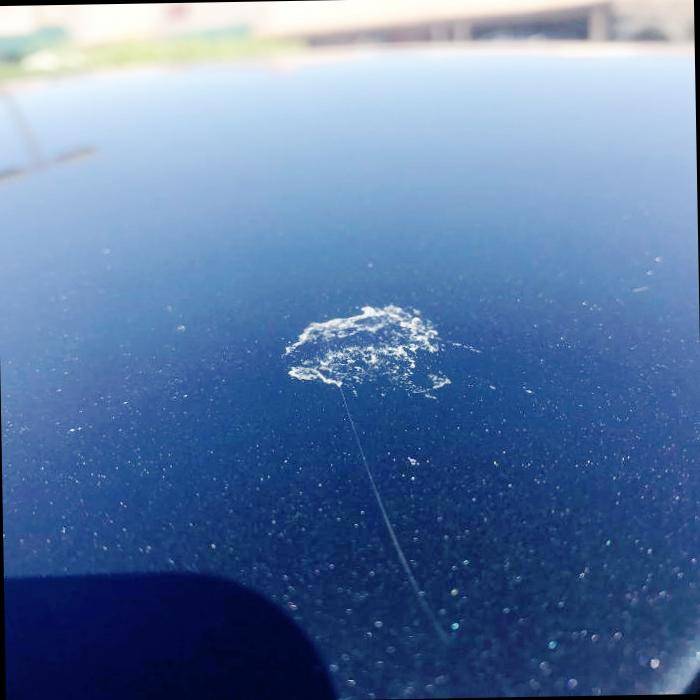Bird Poop: (286, 305, 451, 397)
